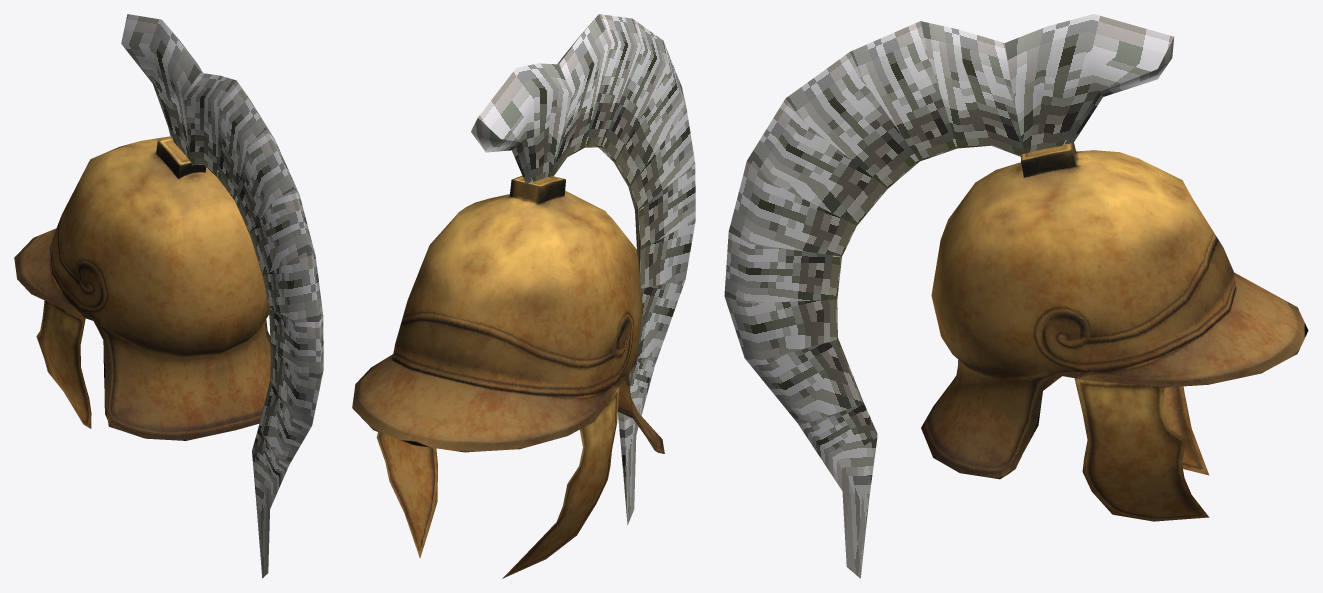
File: helm_hele_thracian_a8.glb
3 views of the same model, side by side, from view 1: azimuth 30°, elevation 25°; view 2: azimuth 150°, elevation 25°; view 3: azimuth 270°, elevation 25° (orthographic). The views are drawn at different scales.
Parts seen in each view (by area): view 1: helm_hele_thracian_a8_part0, helm_hele_thracian_a8_part1; view 2: helm_hele_thracian_a8_part0, helm_hele_thracian_a8_part1; view 3: helm_hele_thracian_a8_part0, helm_hele_thracian_a8_part1.
Boxes of the visible parts, x1,y1,x2,y2 form: helm_hele_thracian_a8_part0: [14, 136, 270, 440]; helm_hele_thracian_a8_part1: [121, 14, 323, 578]; helm_hele_thracian_a8_part0: [352, 175, 664, 578]; helm_hele_thracian_a8_part1: [471, 14, 695, 524]; helm_hele_thracian_a8_part0: [921, 143, 1308, 521]; helm_hele_thracian_a8_part1: [724, 14, 1174, 578].
Size of the model in its own units: 0.4953 by 1.15 by 1.07.
2 materials, 2 textured.
